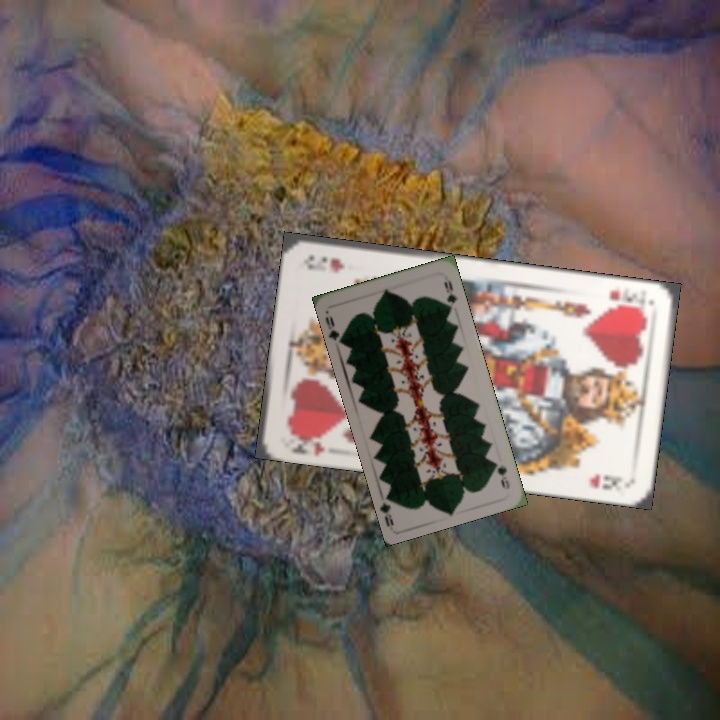G9: (489, 455, 512, 492), (321, 312, 346, 346)
HK: (286, 427, 331, 458), (604, 283, 646, 312)
